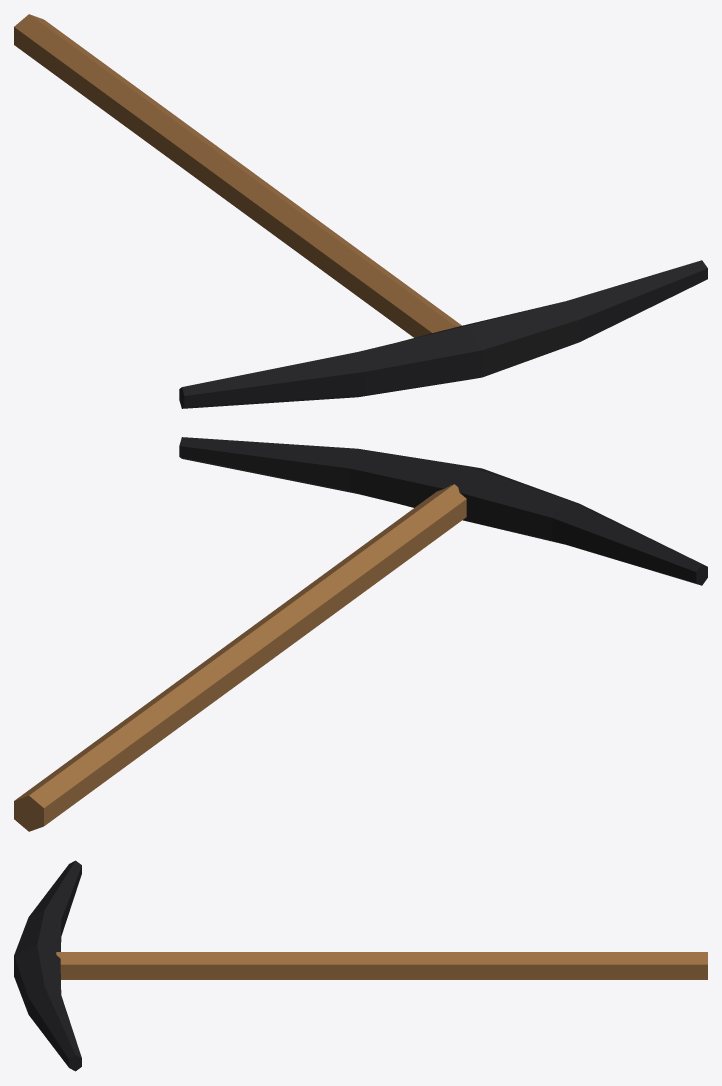
The model's file is SM_Pickaxe.obj.
The picture shows the model from 3 angles, top to bottom: view 1: azimuth 30°, elevation 25°; view 2: azimuth 150°, elevation 25°; view 3: azimuth 270°, elevation 25°; orthographic projection. The views are drawn at different scales.
Parts seen in each view (by area): view 1: SM_Pickaxe; view 2: SM_Pickaxe; view 3: SM_Pickaxe.
Part boxes in pixels (bbox=[...]): SM_Pickaxe: bbox=[14, 14, 707, 408]; SM_Pickaxe: bbox=[14, 437, 707, 831]; SM_Pickaxe: bbox=[14, 860, 707, 1071].
Size of the model in its own units: 0.6038 by 0.06 by 0.9053.
